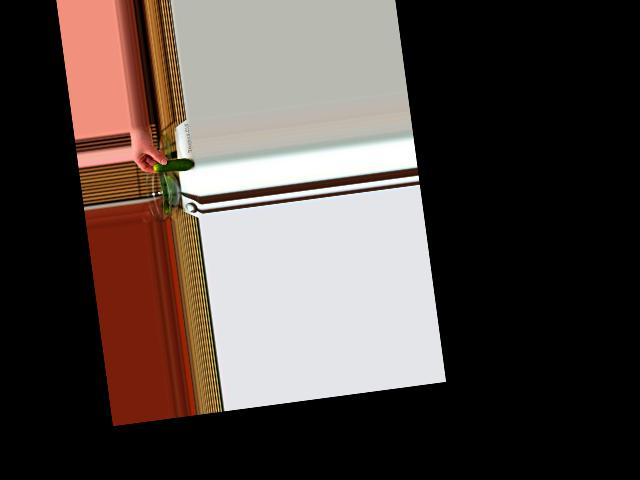cucumber: (152, 156, 194, 174)
